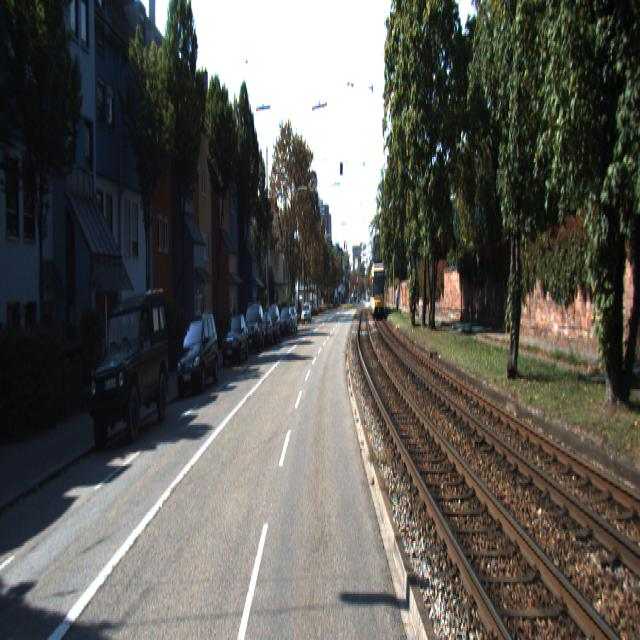Car: (89, 286, 171, 455), (176, 314, 220, 403), (220, 314, 250, 369), (243, 303, 264, 357), (370, 266, 386, 323)
